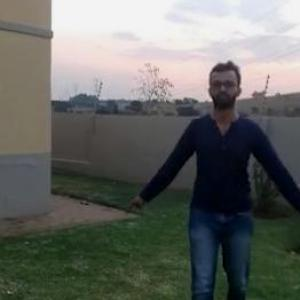land: (126, 55, 299, 299)
